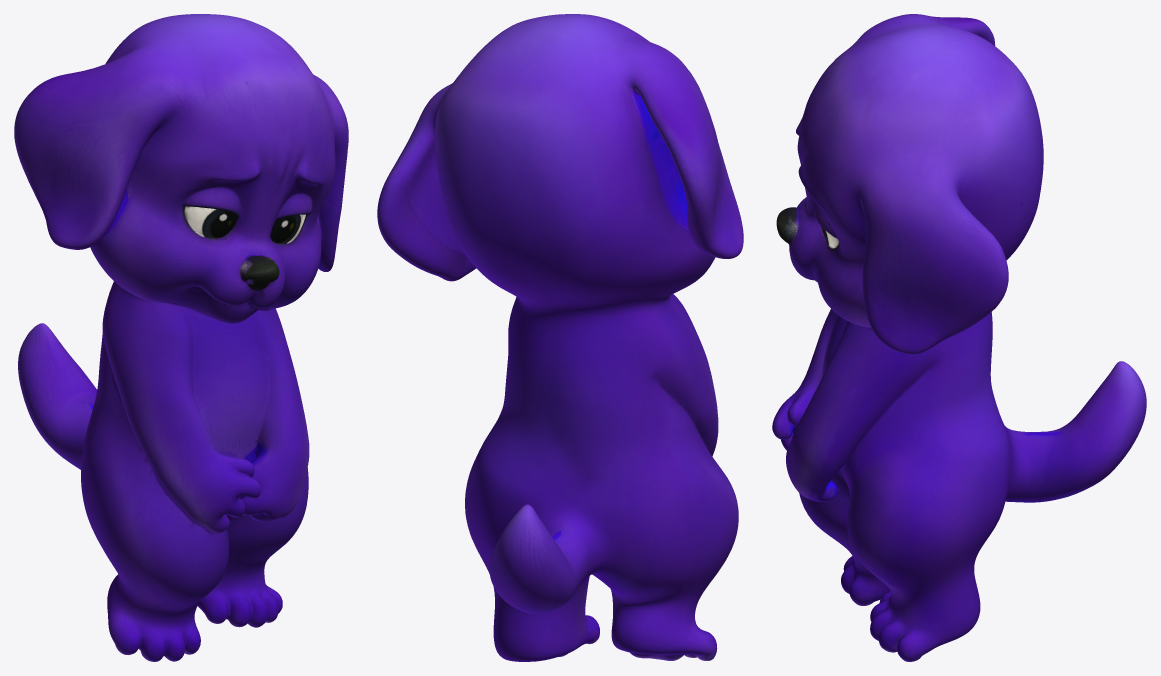
File: monadog1_final.glb
3 views of the same model, side by side, from view 1: azimuth 30°, elevation 25°; view 2: azimuth 150°, elevation 25°; view 3: azimuth 270°, elevation 25° (orthographic). The views are drawn at different scales.
Size of the model in its own units: 0.9892 by 1.9 by 1.08.
Materials: 1 (1 with a texture image).
